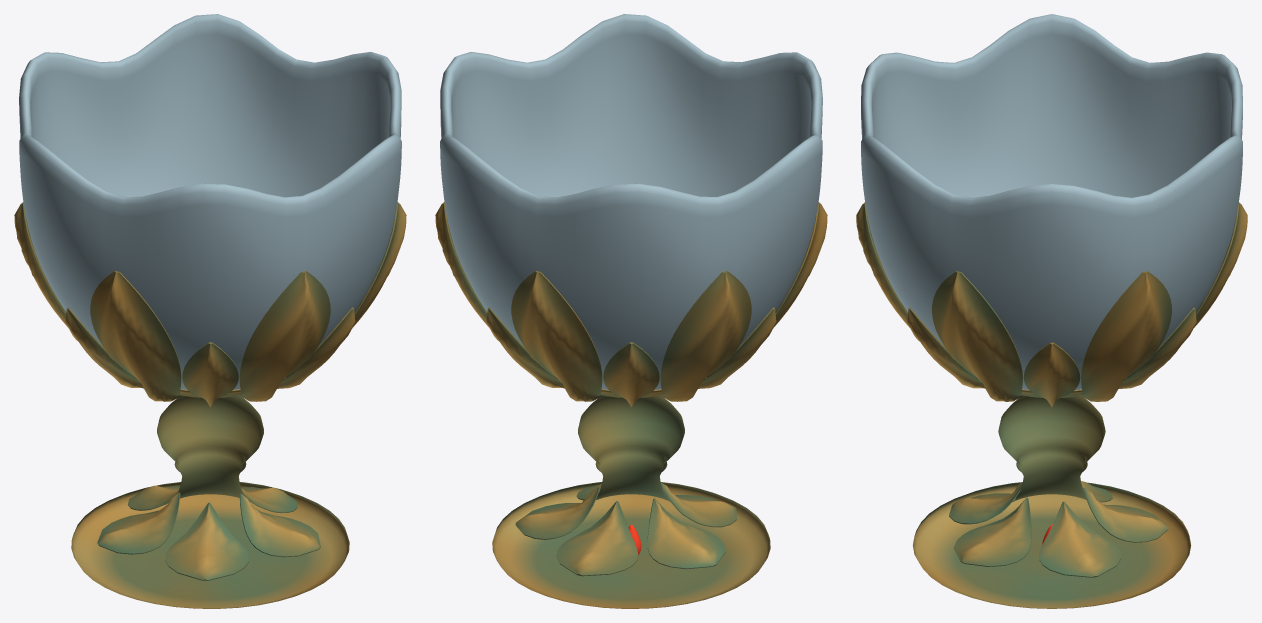
The model's file is harvest-chalice.glb.
3 renders of one model, left to right at view 1: azimuth 30°, elevation 25°; view 2: azimuth 150°, elevation 25°; view 3: azimuth 270°, elevation 25°, orthographic.
Visible parts, largest first — view 1: ChaliceCrystalBowl, ChaliceBrassFrame; view 2: ChaliceCrystalBowl, ChaliceBrassFrame; view 3: ChaliceCrystalBowl, ChaliceBrassFrame.
Part boxes in pixels (x1,y1,x2,y2): ChaliceCrystalBowl: (19, 14, 401, 389); ChaliceBrassFrame: (14, 202, 406, 608); ChaliceCrystalBowl: (440, 14, 822, 389); ChaliceBrassFrame: (435, 202, 827, 608); ChaliceCrystalBowl: (861, 14, 1242, 389); ChaliceBrassFrame: (856, 202, 1247, 608).
Bounding box in the file's own units: 1.3 × 1.61 × 1.23.
